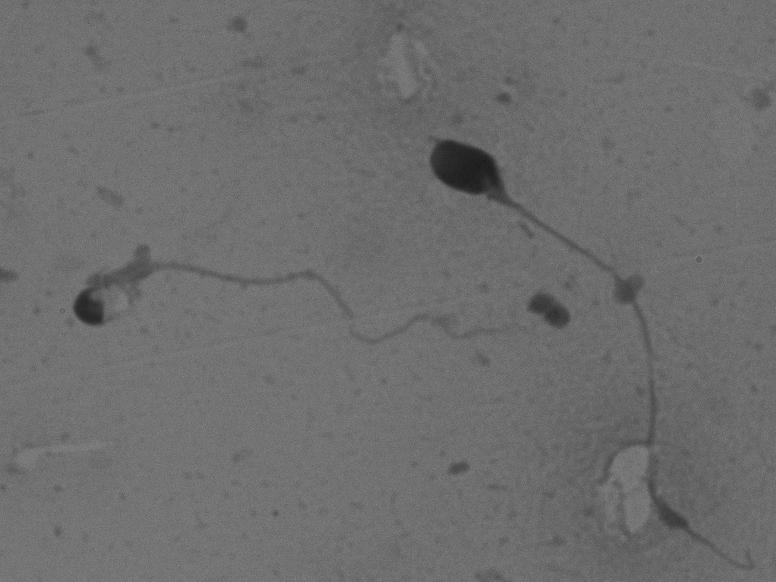Abnormal: (397, 121, 762, 573), (35, 236, 518, 387)
